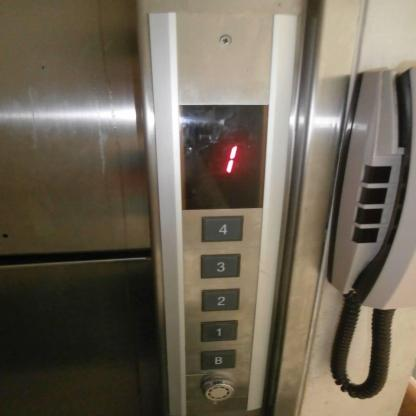1: (198, 318, 239, 343)
2: (198, 286, 240, 312)
3: (197, 252, 242, 280)
4: (198, 214, 248, 243)
B: (198, 348, 238, 371)
led: (176, 102, 272, 211)
speaker: (199, 377, 239, 403)
